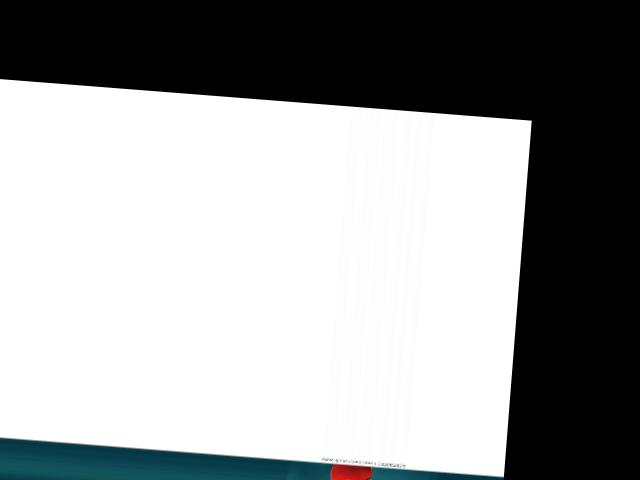tomato: (329, 463, 373, 480)
